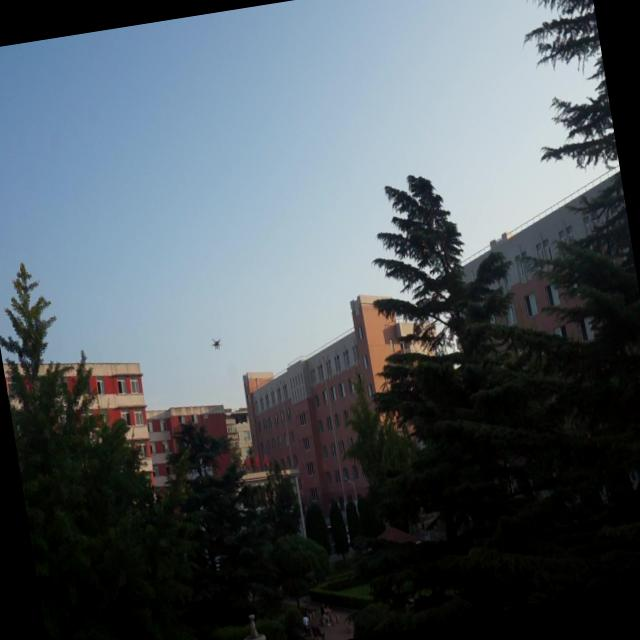drone: (208, 333, 226, 353)
